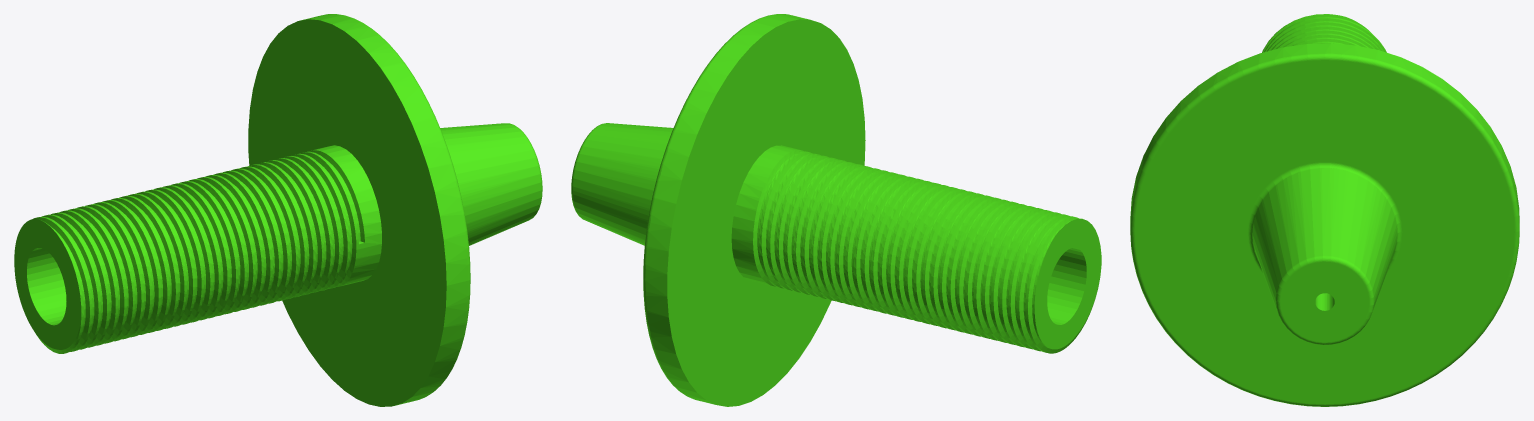
The picture shows the model from 3 angles, left to right: view 1: azimuth 30°, elevation 25°; view 2: azimuth 150°, elevation 25°; view 3: azimuth 270°, elevation 25°; orthographic projection.
Parts seen in each view (by area): view 1: 10-1 空气采样毛细采样套件 AR-Sampling pipe（组装; view 2: 10-1 空气采样毛细采样套件 AR-Sampling pipe（组装; view 3: 10-1 空气采样毛细采样套件 AR-Sampling pipe（组装.
Boxes of the visible parts, x1=… form: 10-1 空气采样毛细采样套件 AR-Sampling pipe（组装: x1=14, y1=14, x2=542, y2=406; 10-1 空气采样毛细采样套件 AR-Sampling pipe（组装: x1=571, y1=14, x2=1101, y2=406; 10-1 空气采样毛细采样套件 AR-Sampling pipe（组装: x1=1130, y1=14, x2=1519, y2=406.
Size of the model in its own units: 4.85 by 3.53 by 3.53.
